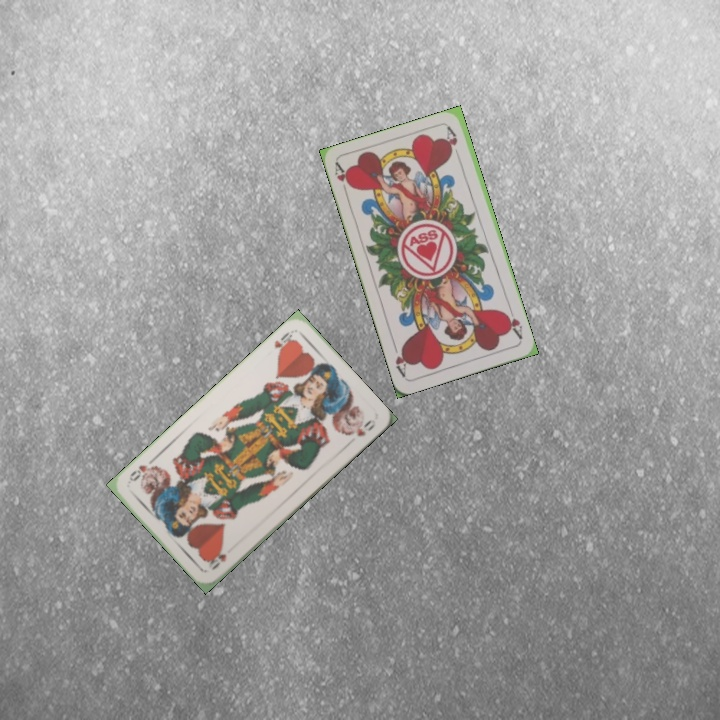HA: (330, 159, 355, 199), (500, 303, 525, 342)
HO: (270, 327, 298, 357), (205, 547, 229, 573)
